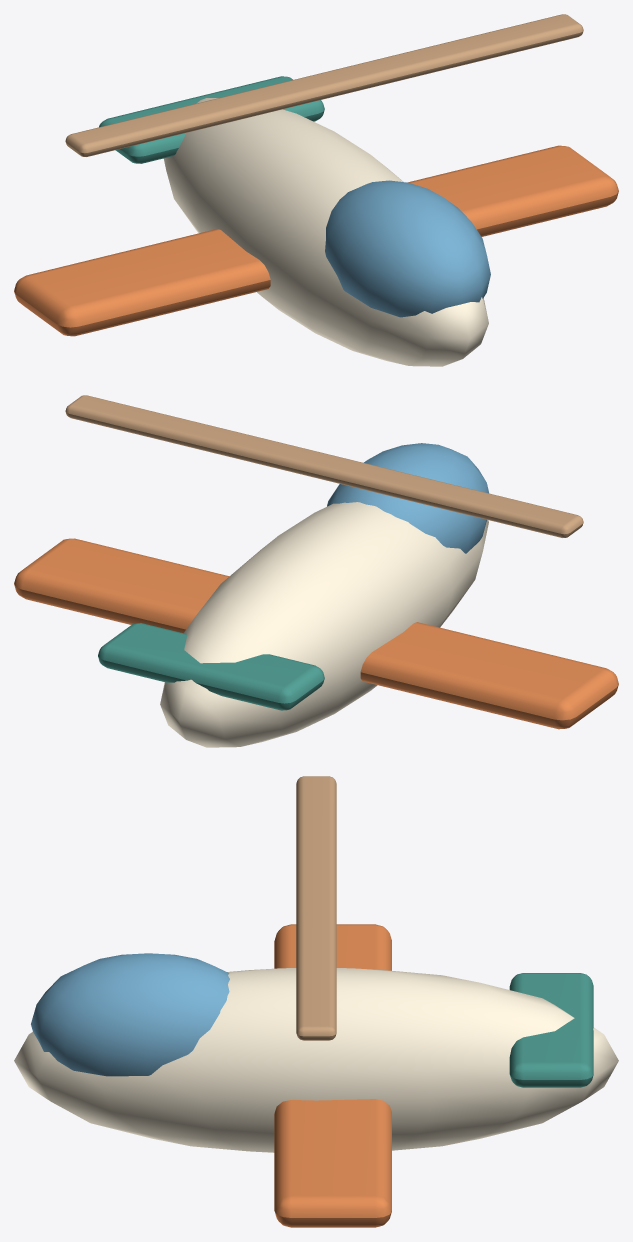
File: word-helicopter.glb
3 renders of one model, top to bottom at view 1: azimuth 30°, elevation 25°; view 2: azimuth 150°, elevation 25°; view 3: azimuth 270°, elevation 25°, orthographic. The views are drawn at different scales.
Parts seen in each view (by area): view 1: fuselage, wing, cockpit, rotor, tail; view 2: fuselage, wing, rotor, tail, cockpit; view 3: fuselage, cockpit, wing, rotor, tail.
Boxes of the visible parts, <box> form: fuselage: <box>163,98,488,366</box>; wing: <box>14,145,618,336</box>; cockpit: <box>325,180,490,317</box>; rotor: <box>65,14,583,156</box>; tail: <box>99,76,324,163</box>; fuselage: <box>160,502,488,747</box>; wing: <box>14,538,618,729</box>; rotor: <box>65,395,583,537</box>; tail: <box>98,623,324,710</box>; cockpit: <box>327,443,488,553</box>; fuselage: <box>14,968,618,1152</box>; cockpit: <box>31,953,229,1076</box>; wing: <box>274,924,391,1227</box>; rotor: <box>296,776,336,1040</box>; tail: <box>509,973,593,1087</box>.
Size of the model in its own units: 2 by 0.8025 by 1.8.
